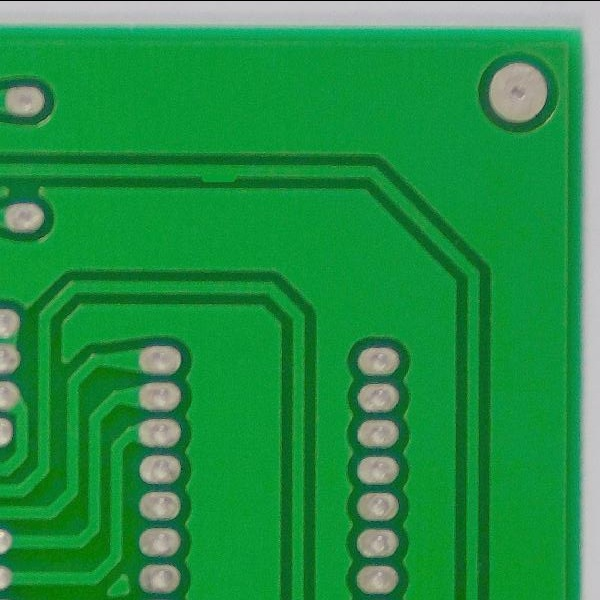spur: (195, 159, 246, 188)
